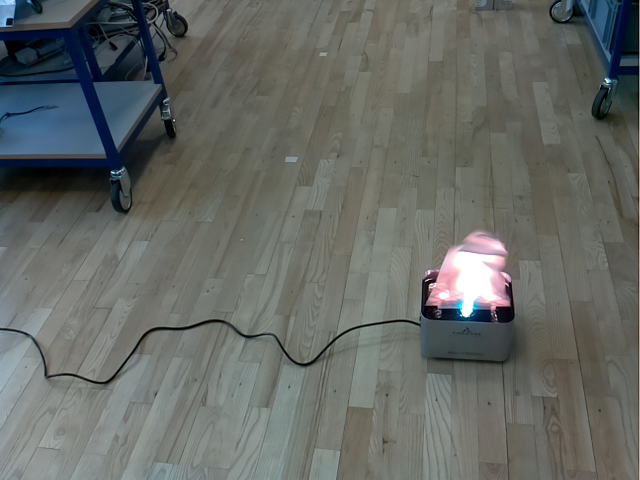fire: (425, 231, 510, 310)
